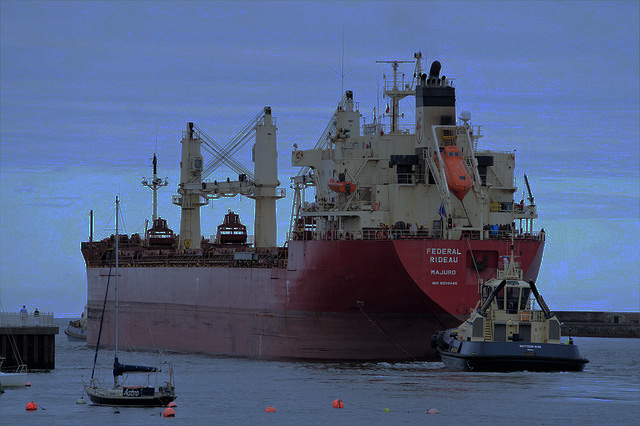boat: (83, 198, 177, 407)
bulk carrier: (84, 53, 544, 360)
tug_boat: (437, 243, 583, 375)
